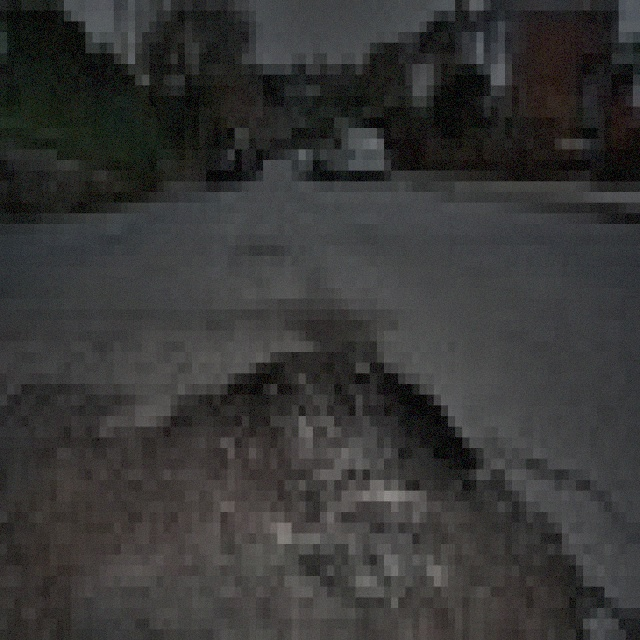pothole: (135, 278, 562, 598)
